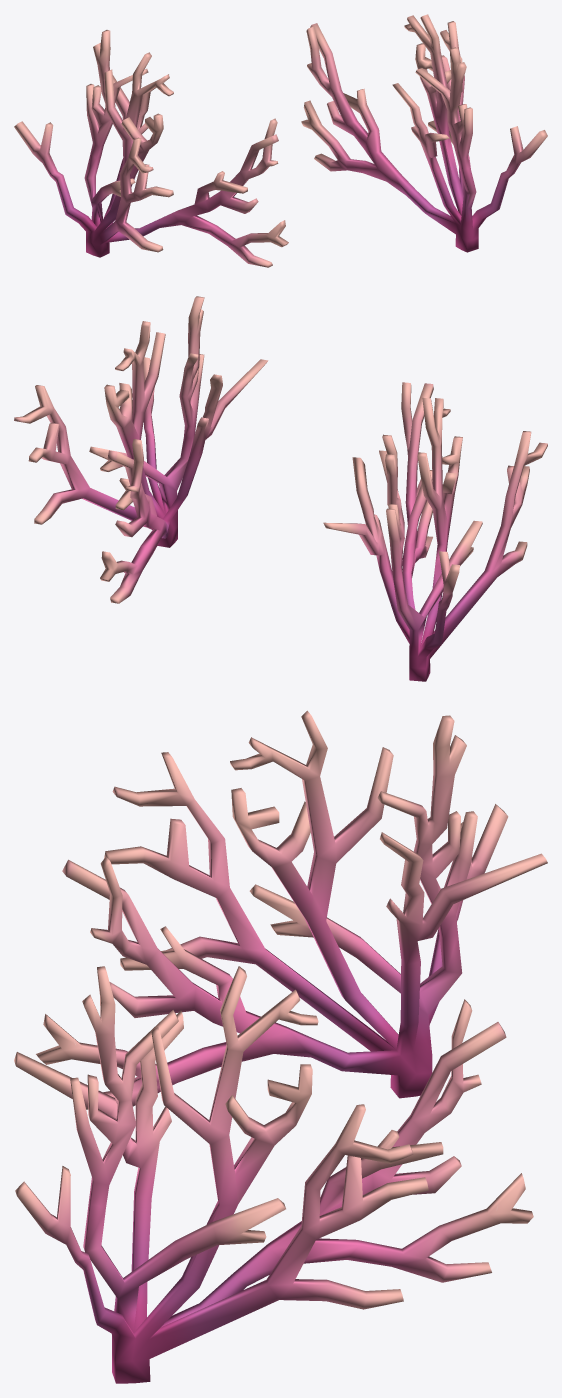
Rendered from stageObject_7.fbx.
3 views of the same model, one above another, from view 1: azimuth 30°, elevation 25°; view 2: azimuth 150°, elevation 25°; view 3: azimuth 270°, elevation 25° (orthographic). The views are drawn at different scales.
Parts seen in each view (by area): view 1: sango3; view 2: sango3; view 3: sango3.
Part boxes in pixels (<box>): sango3: <box>14,14,547,267</box>; sango3: <box>14,296,547,681</box>; sango3: <box>14,710,547,1383</box>.
Size of the model in its own units: 167 by 88.33 by 102.
1 material, 1 textured.
